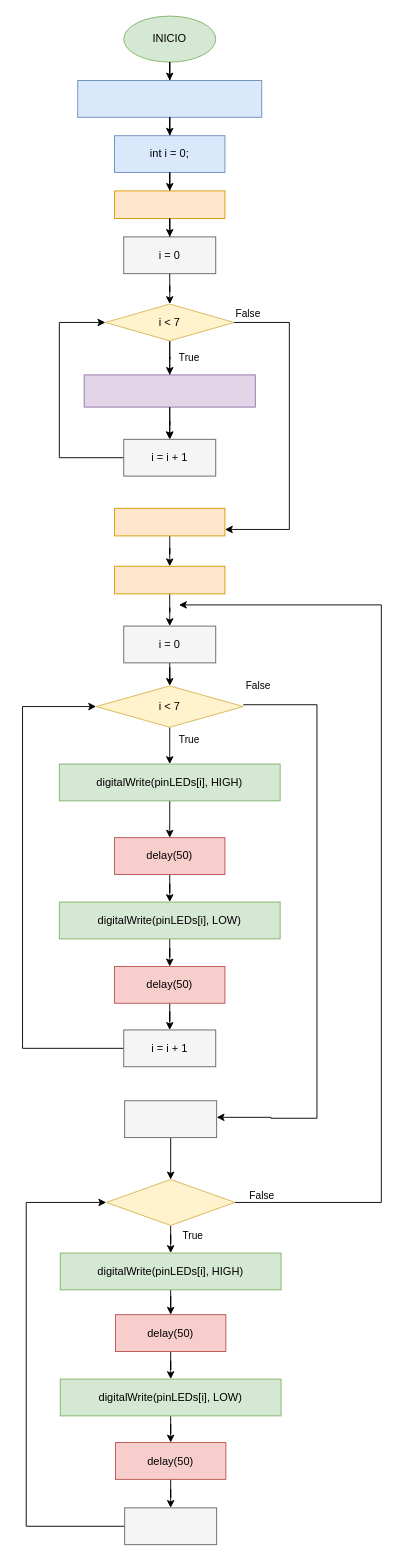
This 405x1561 diagram has some shape labels left out. The centre of each missing label's shape, as x and y in pixels:
Fin setup(): pixel 169 521
i = 6: pixel 170 1119
i = i - 1: pixel 170 1526
i >= 0: pixel 170 1202
int pinLEDs[7] = {5,6,7,8,9,10,11};: pixel 169 98
loop(): pixel 169 579
pinMode(pinLEDs[i], OUTPUT): pixel 169 390
setup(): pixel 169 204
